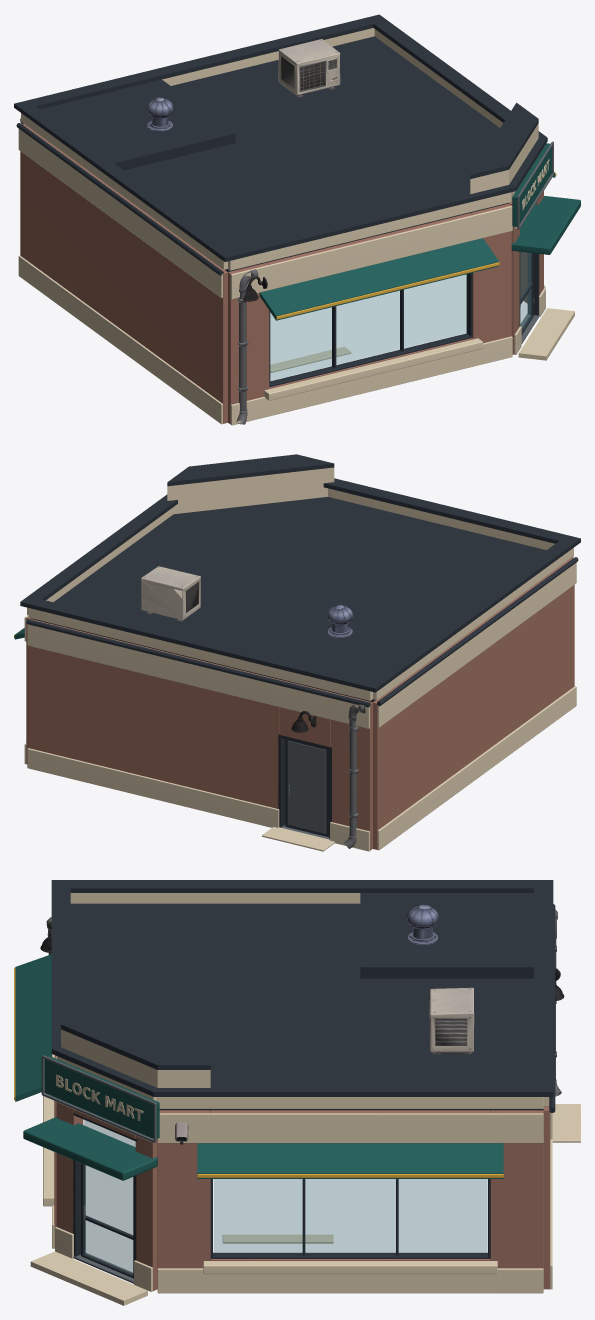
The model's file is block-mart-lod.glb.
The picture shows the model from 3 angles, top to bottom: view 1: azimuth 30°, elevation 25°; view 2: azimuth 150°, elevation 25°; view 3: azimuth 270°, elevation 25°; orthographic projection. The views are drawn at different scales.
Visible parts, largest first — view 1: roof-navy, shell-brick-base, shell-cream, glass-shop-glass, shell-teal, roof-cream, shell-navy, roof-meshy-roof-ac, utility-meshy-rain-downpipe, shell-yellow, door glass, shell-metal (+1 smaller); view 2: roof-navy, shell-brick-base, shell-cream, roof-cream, inset steel panel, roof-meshy-roof-ac, utility-meshy-rain-downpipe, shell-navy, steel door leaf, roof-meshy-roof-vent; view 3: roof-navy, shell-cream, shell-teal, shell-brick-base, glass-shop-glass, roof-cream, door glass, shell-navy, roof-meshy-roof-ac, shell-metal, shell-yellow, roof-meshy-roof-vent.
Boxes of the visible parts, box(x1,y1,x2,y2) form: roof-navy: box(14, 14, 547, 275); shell-brick-base: box(20, 123, 543, 424); shell-cream: box(18, 123, 574, 425); glass-shop-glass: box(270, 274, 466, 380); shell-teal: box(259, 143, 580, 320); roof-cream: box(21, 28, 538, 270); shell-navy: box(269, 252, 539, 387); roof-meshy-roof-ac: box(278, 39, 340, 97); utility-meshy-rain-downpipe: box(236, 269, 258, 424); shell-yellow: box(276, 172, 556, 319); door glass: box(520, 252, 531, 329); shell-metal: box(517, 141, 553, 343); roof-navy: box(20, 454, 580, 707); shell-brick-base: box(26, 557, 574, 850); shell-cream: box(24, 556, 576, 851); roof-cream: box(27, 467, 573, 700); inset steel panel: box(287, 740, 326, 833); roof-meshy-roof-ac: box(141, 566, 200, 622); utility-meshy-rain-downpipe: box(344, 704, 365, 848); shell-navy: box(278, 734, 331, 839); steel door leaf: box(285, 739, 329, 837); roof-meshy-roof-vent: box(326, 605, 353, 637); roof-navy: box(51, 880, 555, 1112); shell-cream: box(30, 1054, 580, 1305); shell-teal: box(15, 954, 503, 1180); shell-brick-base: box(54, 1055, 550, 1290); glass-shop-glass: box(84, 1120, 487, 1251); roof-cream: box(55, 893, 549, 1108); door glass: box(84, 1165, 132, 1274); shell-navy: box(73, 1112, 490, 1260); roof-meshy-roof-ac: box(429, 987, 474, 1054); shell-metal: box(41, 1055, 156, 1283); shell-yellow: box(14, 967, 503, 1177); roof-meshy-roof-vent: box(407, 904, 438, 944).
Bounding box in the file's own units: 11.22 × 5.31 × 11.75.
13 materials, 5 textured.
